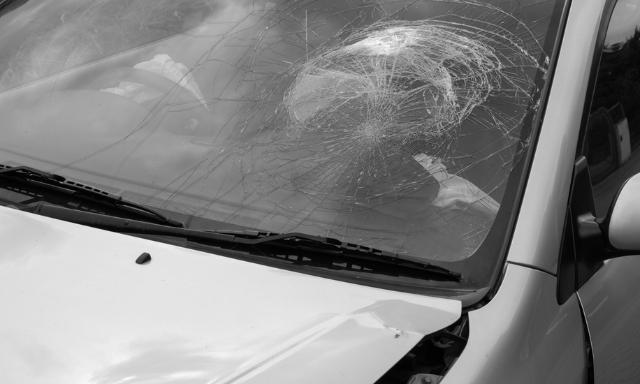Windshield: (178, 1, 538, 272)
